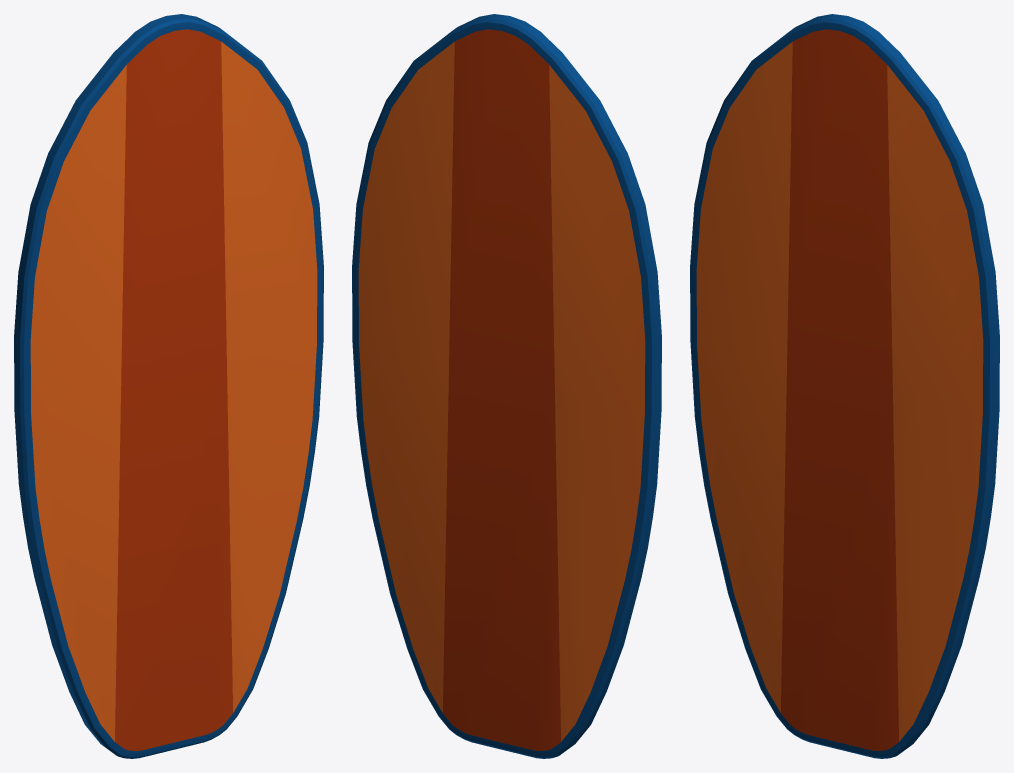
The model's file is Surfboard.fbx.
3 views of the same model, side by side, from view 1: azimuth 30°, elevation 25°; view 2: azimuth 150°, elevation 25°; view 3: azimuth 330°, elevation 25° (orthographic).
Visible parts, largest first — view 1: Surfboard; view 2: Surfboard; view 3: Surfboard.
Boxes of the visible parts, <box> form: Surfboard: <box>14,14,323,758</box>; Surfboard: <box>352,14,661,758</box>; Surfboard: <box>690,14,999,758</box>.
Bounding box in the file's own units: 87.18 × 200 × 5.
